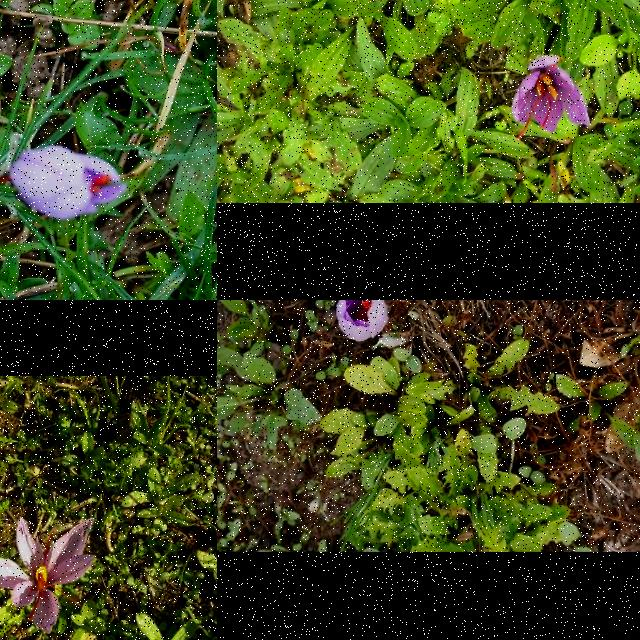flower: (0, 517, 98, 634), (0, 144, 127, 219), (513, 57, 589, 136), (336, 300, 390, 341)
